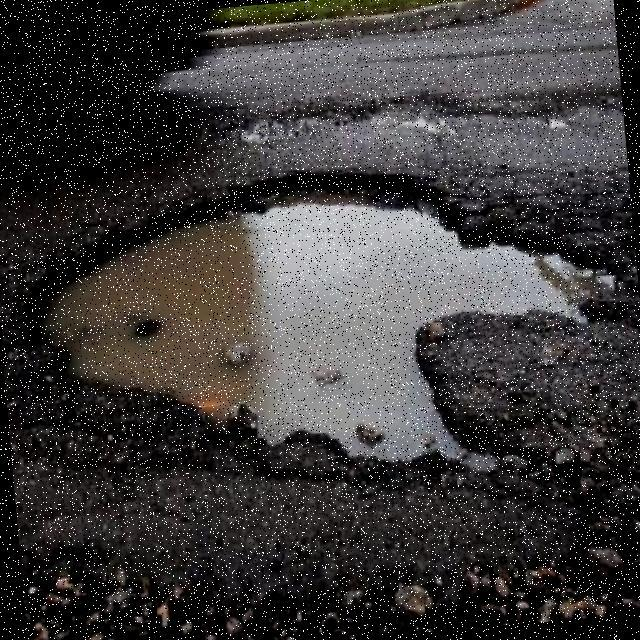Pothole: (39, 174, 619, 462)
